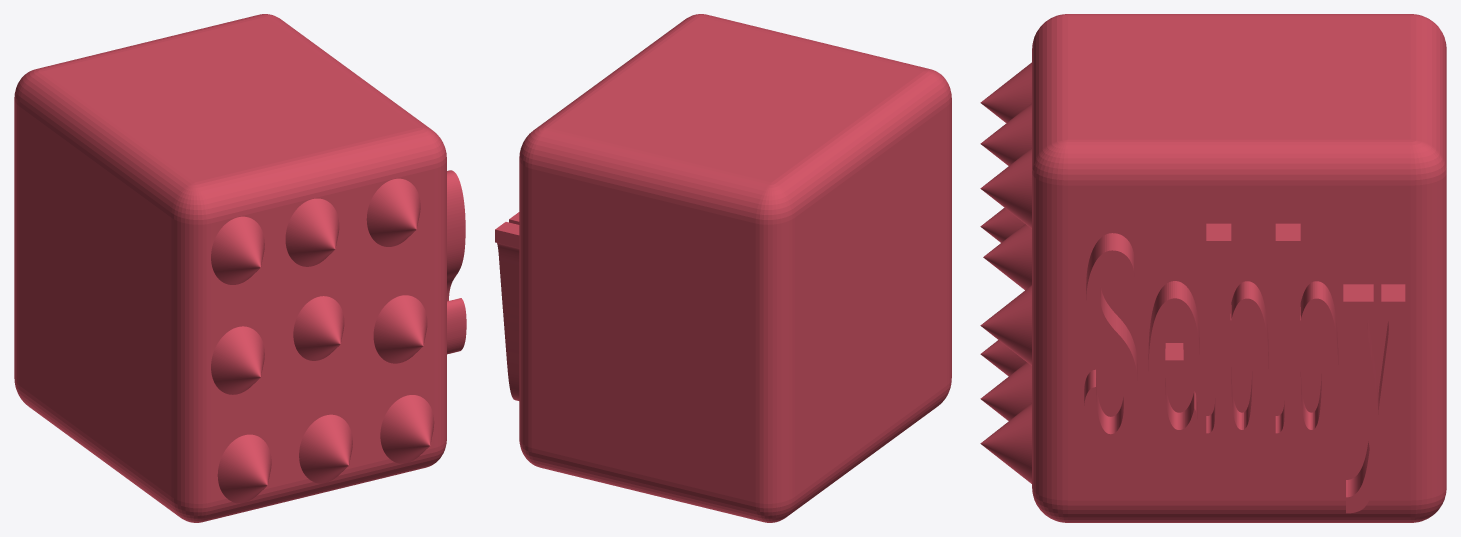
Rendered from Sebby The Sigma.glb.
The picture shows the model from 3 angles, left to right: view 1: azimuth 30°, elevation 25°; view 2: azimuth 150°, elevation 25°; view 3: azimuth 270°, elevation 25°; orthographic projection. The views are drawn at different scales.
Visible parts, largest first — view 1: Mesh_Mesh_head_geo.001_lambert2SG.001; view 2: Mesh_Mesh_head_geo.001_lambert2SG.001; view 3: Mesh_Mesh_head_geo.001_lambert2SG.001.
Boxes of the visible parts, bbox=[...] form: Mesh_Mesh_head_geo.001_lambert2SG.001: bbox=[14, 14, 466, 522]; Mesh_Mesh_head_geo.001_lambert2SG.001: bbox=[495, 14, 951, 522]; Mesh_Mesh_head_geo.001_lambert2SG.001: bbox=[980, 14, 1446, 522].
Bounding box in the file's own units: 0.038 × 0.0405 × 0.045.
